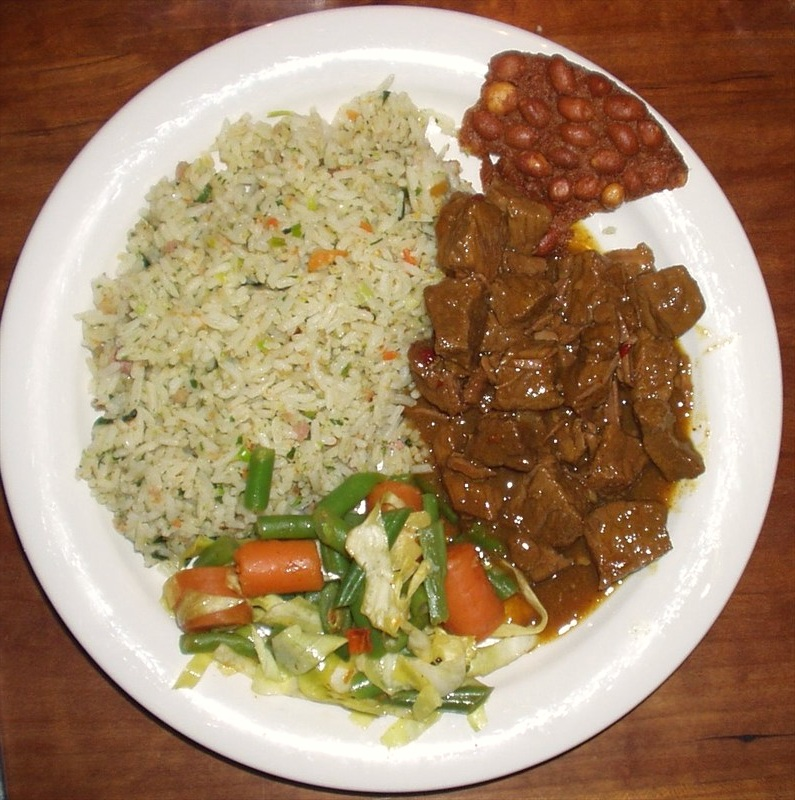Rendang: (67, 25, 753, 775)
